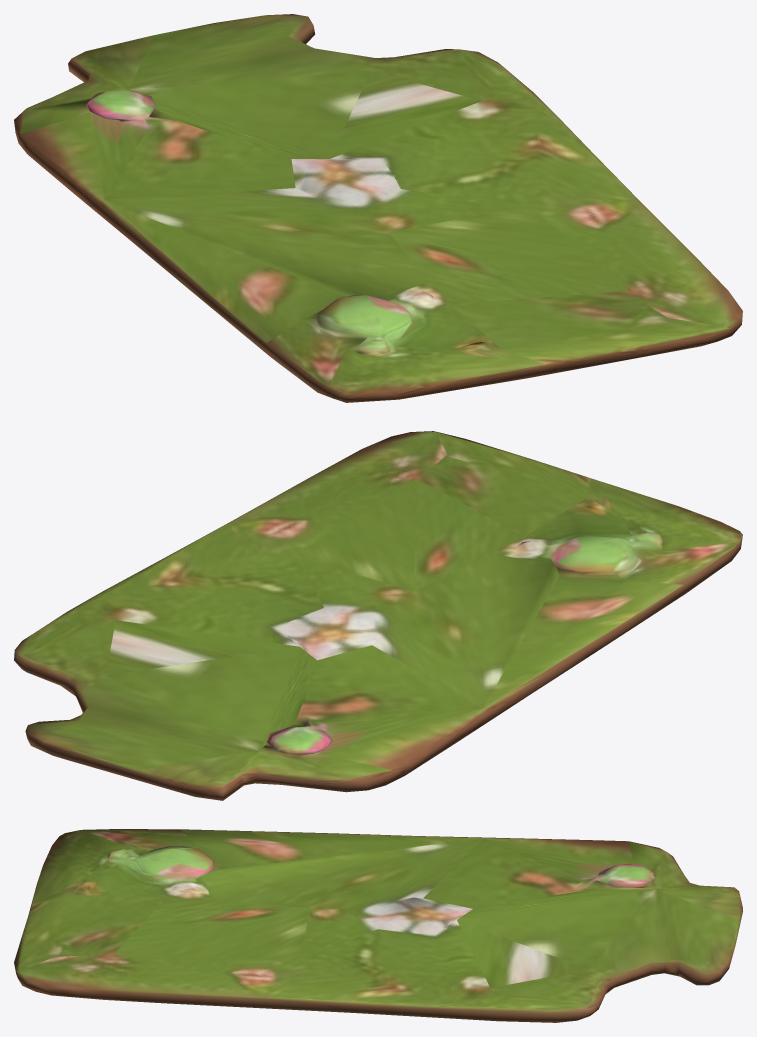
The model's file is CF_Tile_Grass.fbx.
The picture shows the model from 3 angles, top to bottom: view 1: azimuth 30°, elevation 25°; view 2: azimuth 150°, elevation 25°; view 3: azimuth 270°, elevation 25°; orthographic projection. The views are drawn at different scales.
Visible parts, largest first — view 1: CF_Tile_Grass; view 2: CF_Tile_Grass; view 3: CF_Tile_Grass.
Part boxes in pixels (x1,y1,x2,y2): CF_Tile_Grass: (14, 14, 742, 402); CF_Tile_Grass: (14, 431, 742, 800); CF_Tile_Grass: (14, 829, 742, 1022).
Size of the model in its own units: 6.01 by 0.303 by 10.01.
